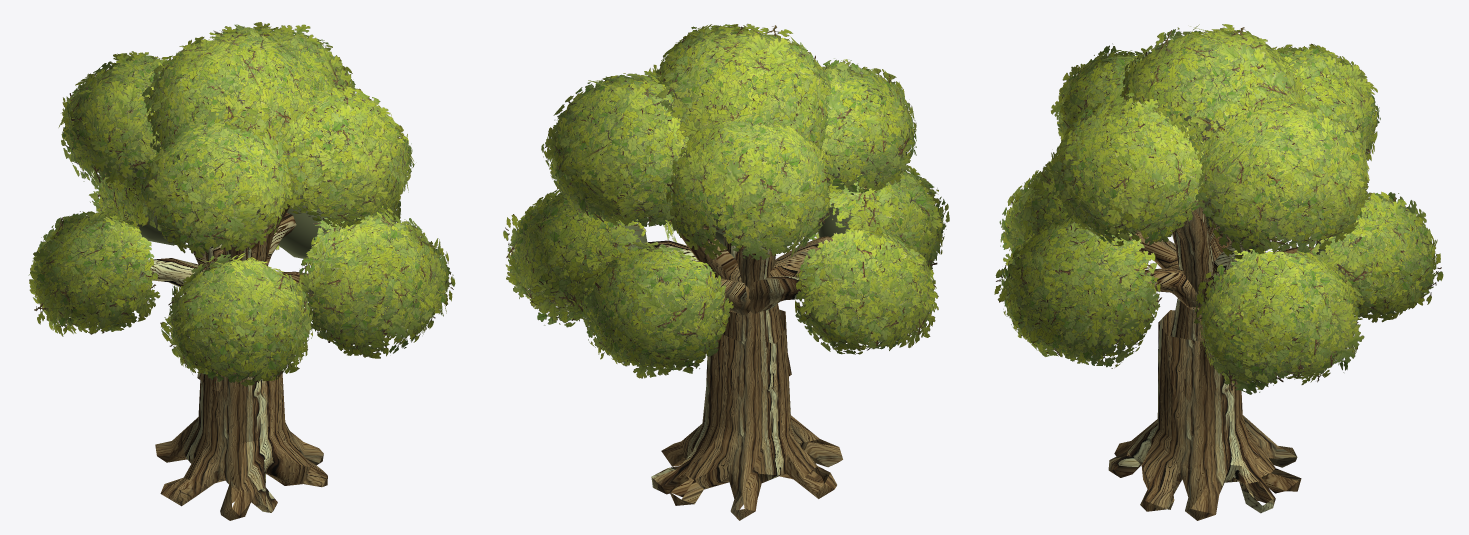
Rendered from tree_oak_1.glb.
3 views of the same model, side by side, from view 1: azimuth 30°, elevation 25°; view 2: azimuth 150°, elevation 25°; view 3: azimuth 270°, elevation 25° (orthographic). The views are drawn at different scales.
Visible parts, largest first — view 1: Leaves, Trunk, CrownCore; view 2: Leaves, Trunk, CrownCore; view 3: Leaves, Trunk.
Part boxes in pixels (bbox=[...]): Leaves: bbox=[28, 22, 455, 386]; Trunk: bbox=[148, 195, 327, 520]; CrownCore: bbox=[65, 75, 406, 333]; Leaves: bbox=[503, 23, 949, 378]; Trunk: bbox=[646, 216, 842, 520]; CrownCore: bbox=[574, 65, 885, 336]; Leaves: bbox=[994, 24, 1443, 394]; Trunk: bbox=[1108, 178, 1314, 520].
Size of the model in its own units: 4.27 by 4.65 by 4.26.
Materials: 3 (2 with a texture image).
